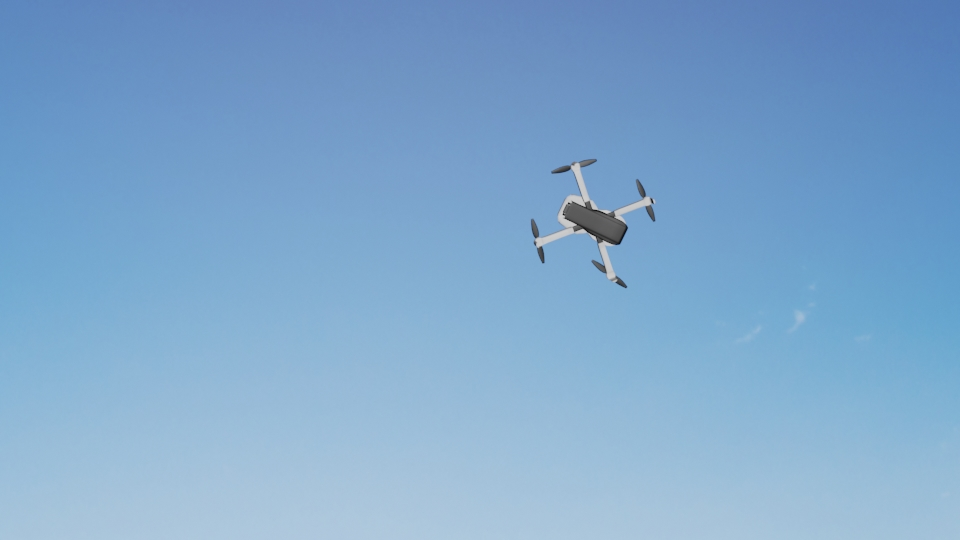drone: (528, 157, 657, 289)
